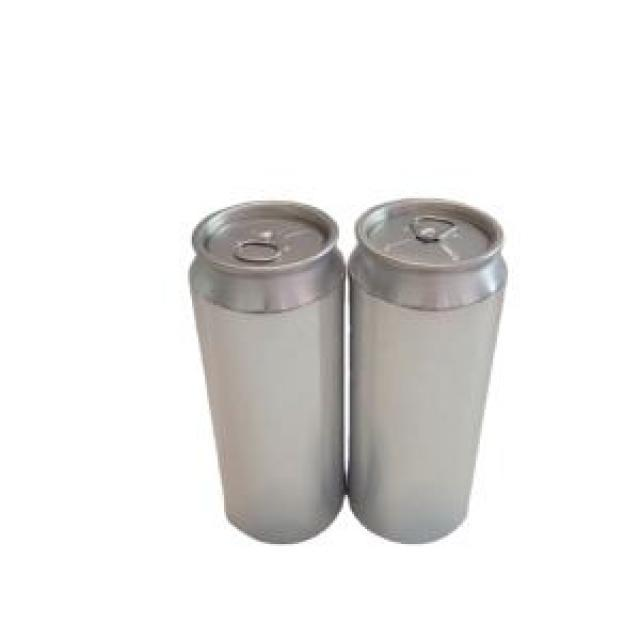can: (344, 175, 511, 549), (189, 177, 344, 554)
